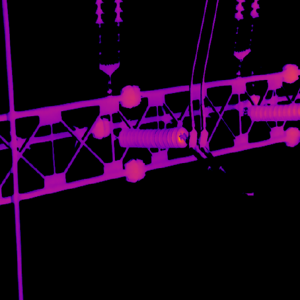insulator: (117, 122, 189, 150), (247, 99, 300, 121), (93, 0, 104, 23), (113, 0, 122, 20), (234, 0, 243, 19), (249, 0, 260, 15)
